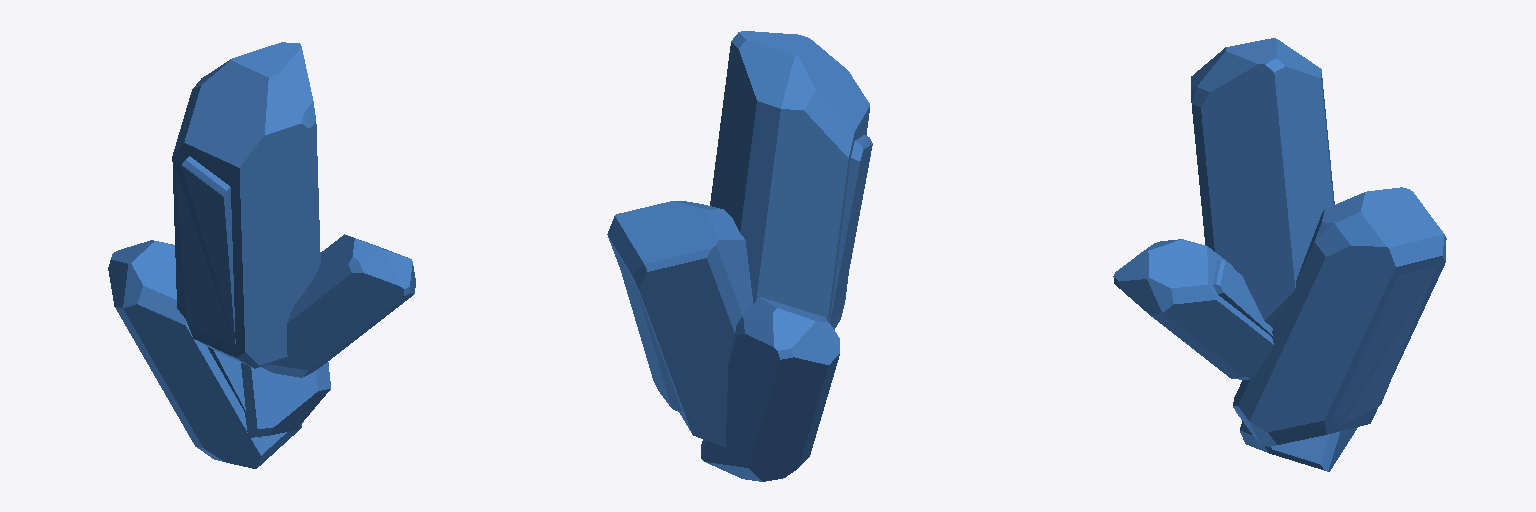
The model's file is crystal.obj.
The picture shows the model from 3 angles: view 1: azimuth 30°, elevation 25°; view 2: azimuth 150°, elevation 25°; view 3: azimuth 270°, elevation 25°; orthographic projection.
Parts seen in each view (by area): view 1: crystal_Cylinder.001; view 2: crystal_Cylinder.001; view 3: crystal_Cylinder.001.
Boxes of the visible parts, <box> form: crystal_Cylinder.001: <box>108,42,415,468</box>; crystal_Cylinder.001: <box>607,31,872,481</box>; crystal_Cylinder.001: <box>1113,38,1446,471</box>.
Bounding box in the file's own units: 1.24 × 2.42 × 1.75.